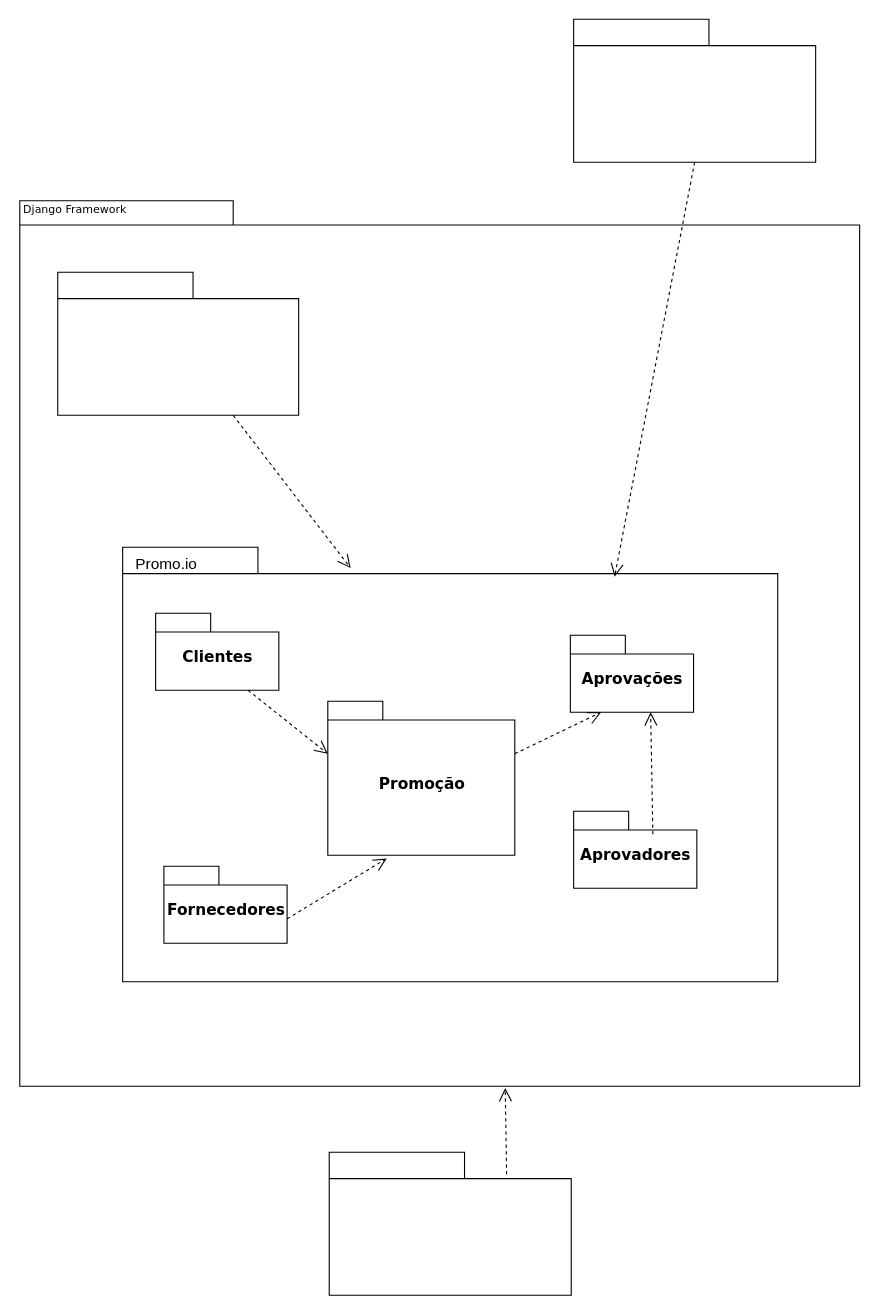
This 879x1315 diagram has some shape labels left out. Each missing label, with the centre of its shape:
"Framework admin" goes at point (178, 343).
"Gerenciamento de Usuário" goes at point (694, 90).
"Notificações" goes at point (449, 1223).
